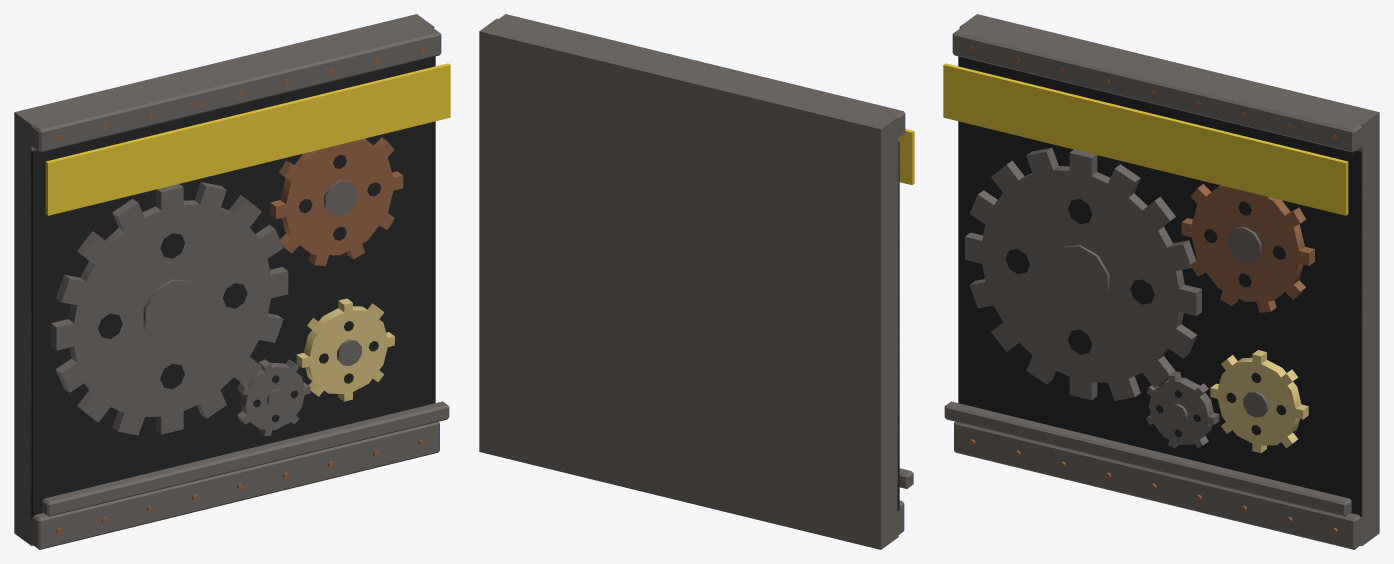
File: wall_wk_gears.glb
3 renders of one model, left to right at view 1: azimuth 30°, elevation 25°; view 2: azimuth 150°, elevation 25°; view 3: azimuth 330°, elevation 25°, orthographic.
Parts seen in each view (by area): view 1: wall_wk_gears; view 2: wall_wk_gears; view 3: wall_wk_gears.
Part boxes in pixels (left/top/right/bottom): wall_wk_gears: left=14, top=14, right=450, bottom=549; wall_wk_gears: left=479, top=14, right=914, bottom=549; wall_wk_gears: left=943, top=14, right=1379, bottom=549.
Size of the model in its own units: 4 by 4 by 0.58.
